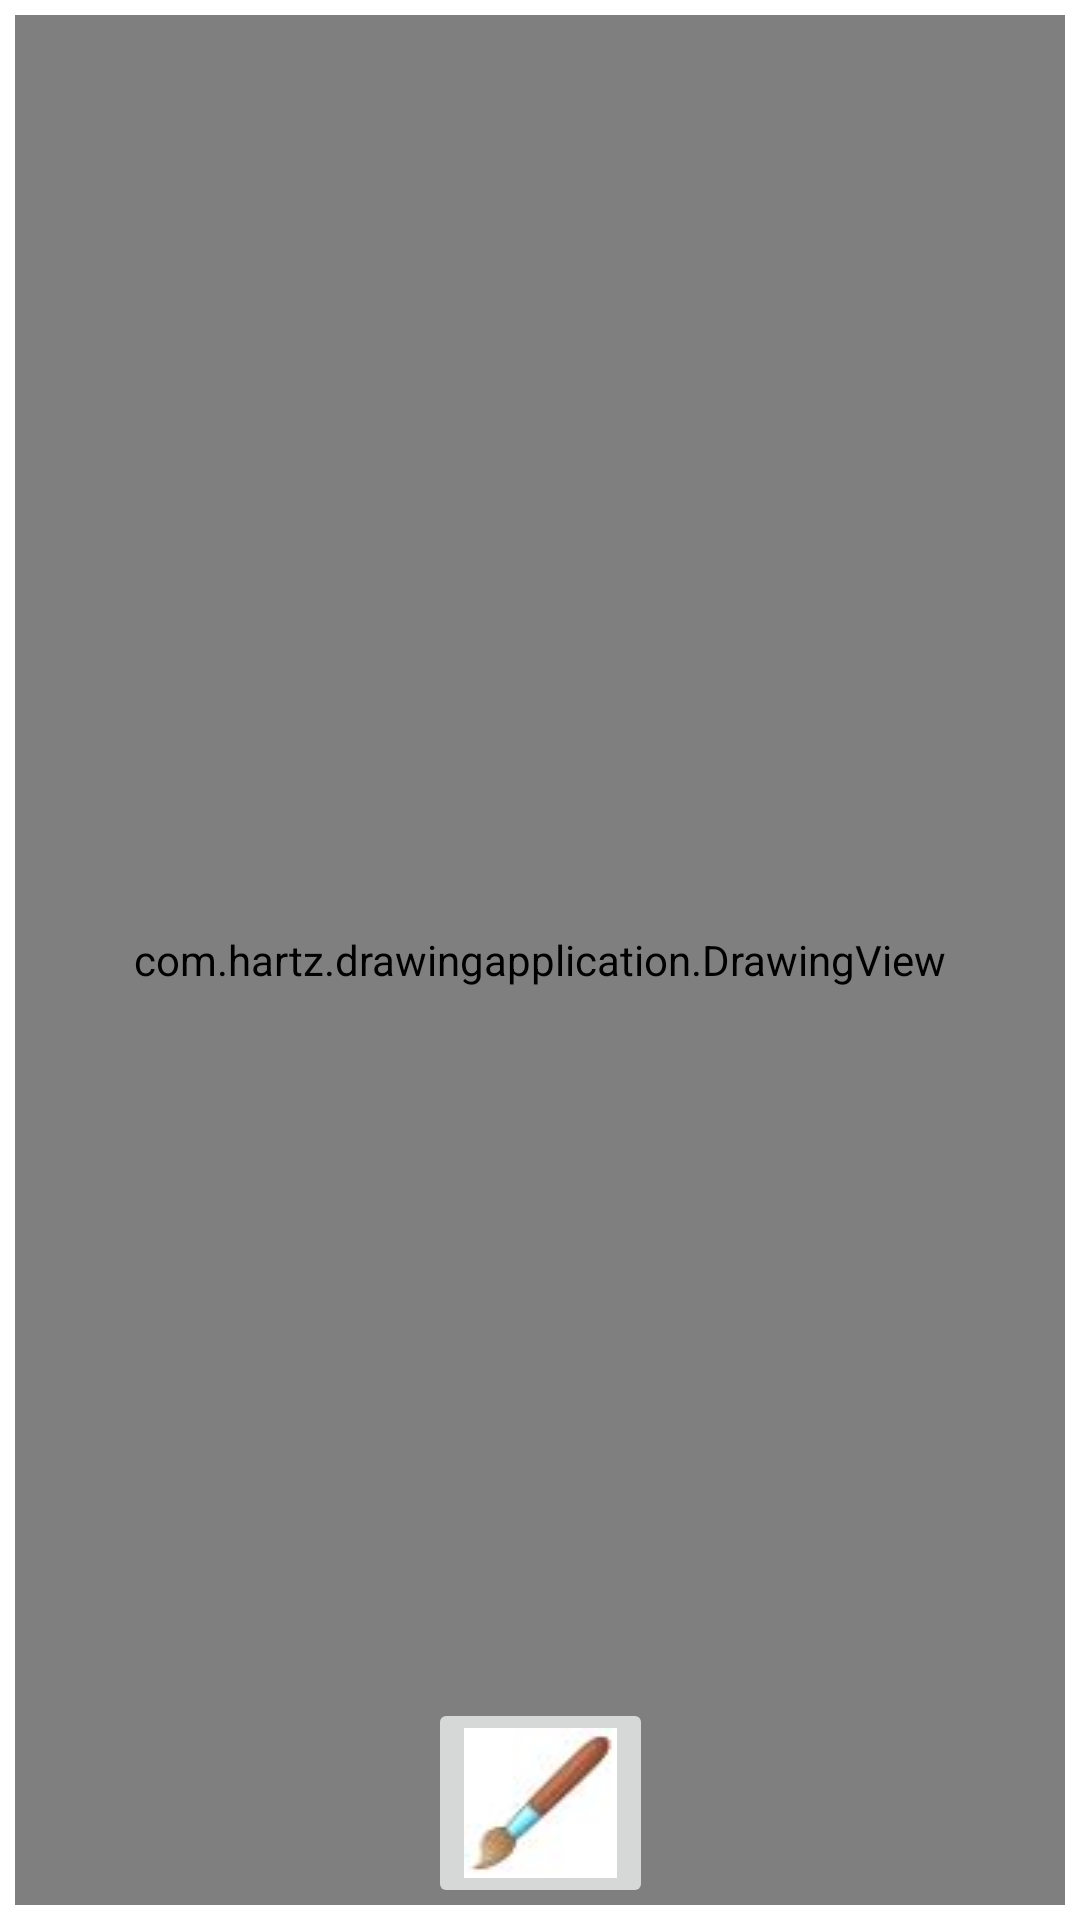

Point at icon controls on the screen. Image size 1080x1920, points as [x,y].
brush: [540,1803]
